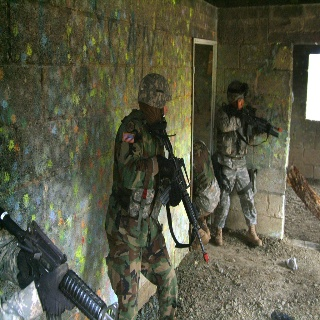rifle: (1, 204, 114, 320), (149, 119, 212, 262), (221, 101, 284, 145)
